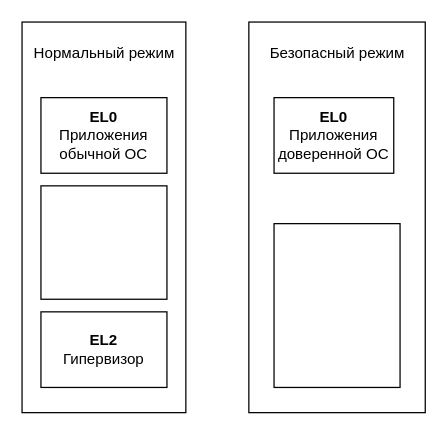
This 447x435 diagram has some shape labels left out. The centre of each missing label's shape, as x and y in pixels:
"EL1 Доверенная ОС Обработчики прерываний и исключений Secure Monitor" belongs at [336,304].
"EL1 Обычная ОС Обработчики прерываний и исключений" belongs at [103,242].
